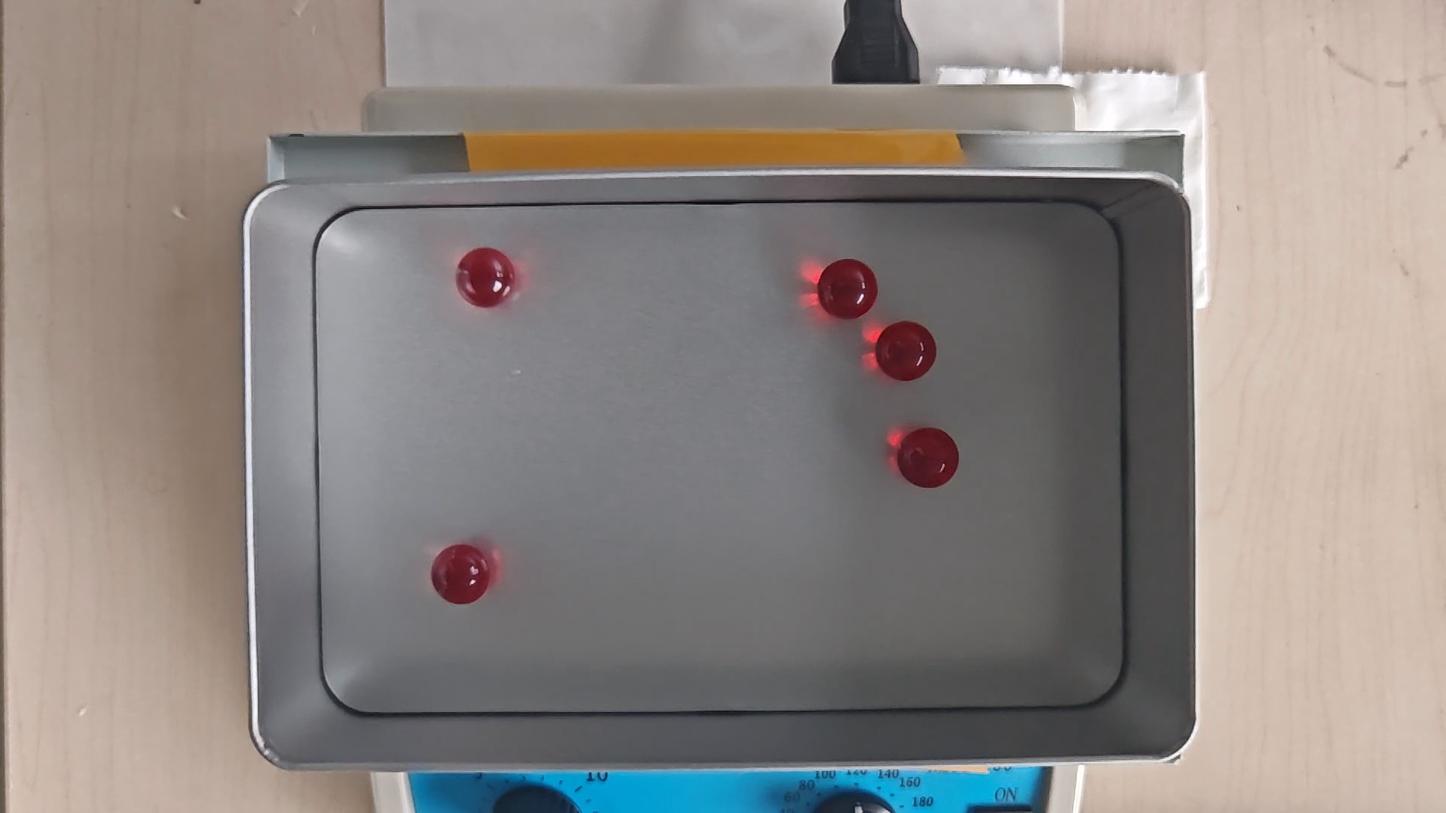ball: (453, 245, 513, 309), (898, 426, 959, 488), (878, 321, 936, 381), (820, 257, 876, 319), (434, 545, 490, 606)
container: (313, 200, 1126, 712)
